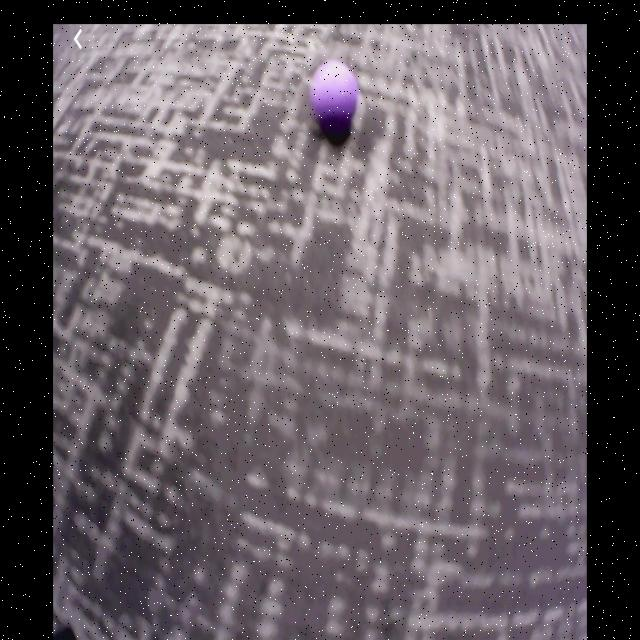ball: (309, 65, 358, 131)
